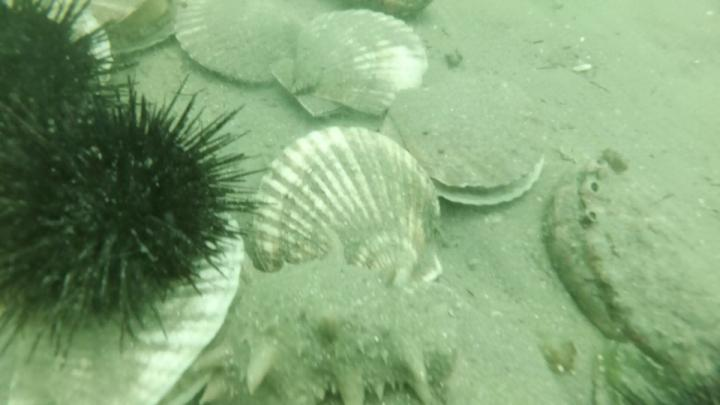echinus: (1, 84, 245, 340), (1, 1, 131, 151)
holothurian: (191, 301, 467, 405)
scallop: (251, 122, 450, 288), (385, 82, 548, 213), (265, 8, 433, 127), (171, 1, 311, 89), (48, 1, 116, 91)
